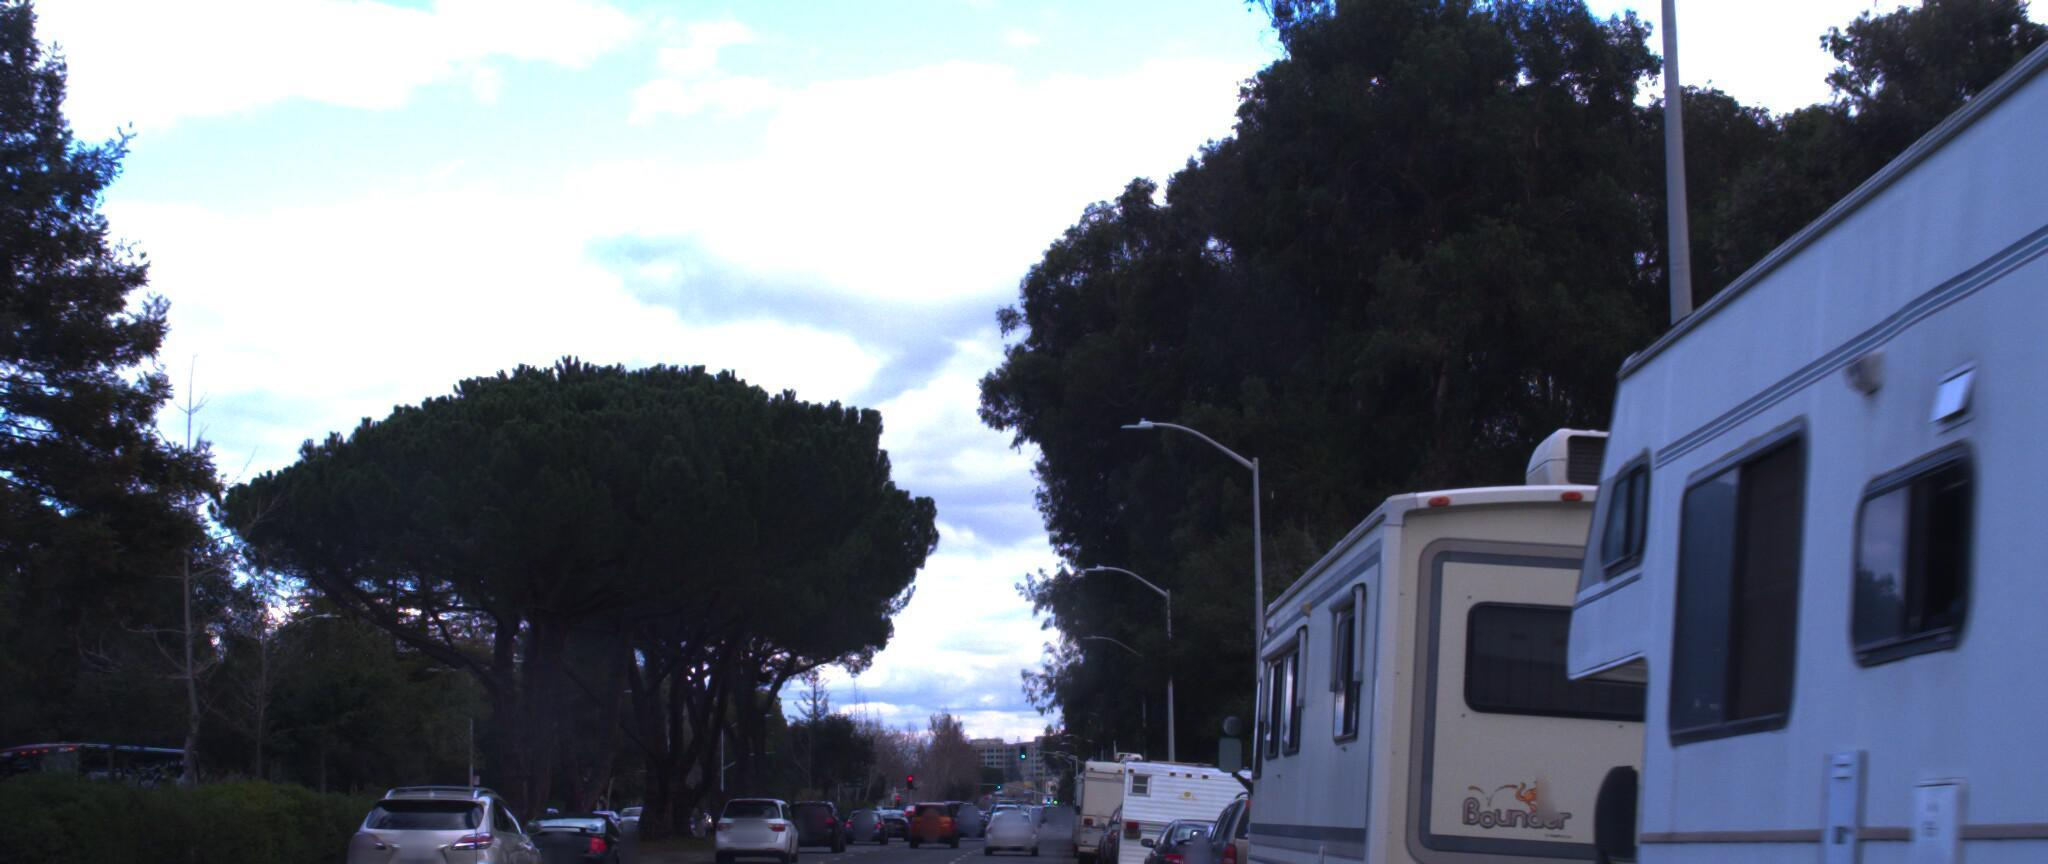car: (346, 771, 562, 864), (1185, 767, 1361, 864), (512, 790, 653, 864), (1135, 796, 1266, 864), (717, 783, 801, 850)
other_vehicle: (1469, 0, 2048, 864), (1208, 428, 1924, 864), (1115, 732, 1266, 864), (1076, 722, 1179, 850)
